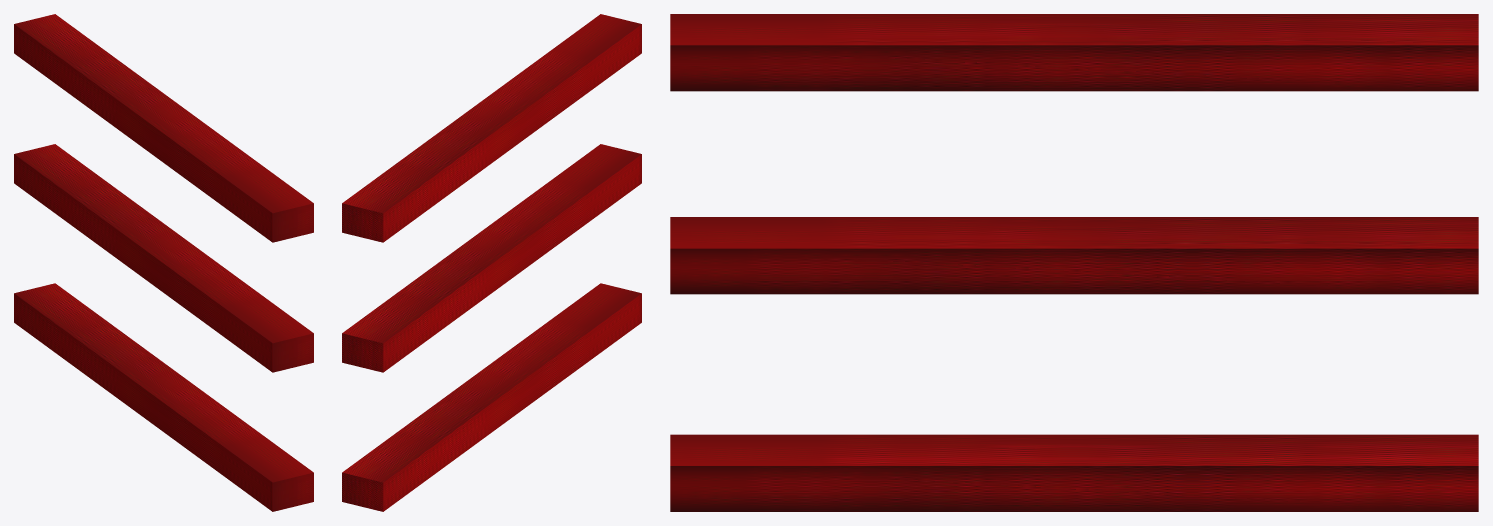
Rendered from nivel5.fbx.
3 views of the same model, side by side, from view 1: azimuth 30°, elevation 25°; view 2: azimuth 150°, elevation 25°; view 3: azimuth 270°, elevation 25° (orthographic). The views are drawn at different scales.
Parts seen in each view (by area): view 1: Cube.010, Cube.008, Cube.014; view 2: Cube.010, Cube.014, Cube.008; view 3: Cube.010, Cube.008, Cube.014.
Boxes of the visible parts, left/top/right/bottom form: Cube.010: left=14, top=14, right=313, bottom=242; Cube.008: left=14, top=144, right=313, bottom=372; Cube.014: left=14, top=283, right=313, bottom=511; Cube.010: left=342, top=14, right=641, bottom=242; Cube.014: left=342, top=283, right=641, bottom=511; Cube.008: left=342, top=144, right=641, bottom=372; Cube.010: left=670, top=14, right=1478, bottom=91; Cube.008: left=670, top=217, right=1478, bottom=294; Cube.014: left=670, top=434, right=1478, bottom=511.
Size of the model in its own units: 200 by 1385 by 2175.
